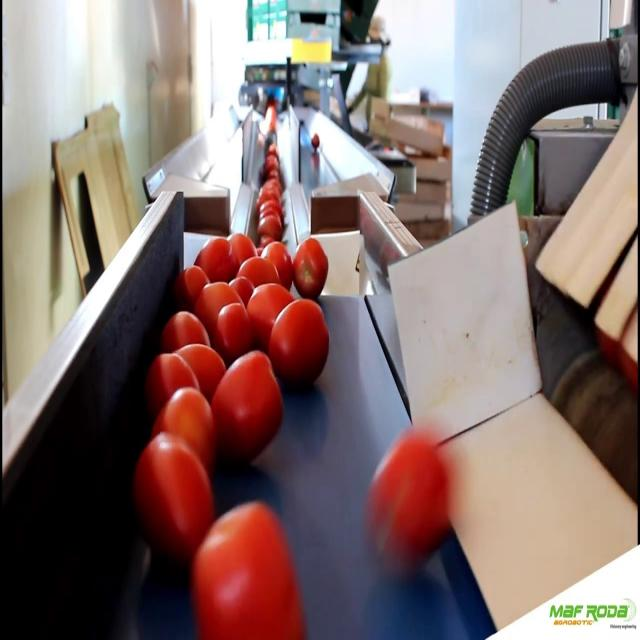Tomato: (190, 505, 312, 640), (366, 434, 451, 566), (132, 434, 210, 555), (212, 360, 280, 457), (154, 389, 216, 470), (272, 304, 331, 384), (248, 288, 291, 343), (158, 310, 210, 355), (181, 344, 224, 398), (153, 353, 194, 407), (193, 237, 238, 280), (294, 239, 326, 295), (216, 302, 248, 354), (266, 238, 290, 284), (224, 230, 258, 262), (240, 255, 275, 284), (202, 284, 239, 310), (183, 260, 208, 298), (229, 276, 252, 301), (257, 216, 283, 236), (259, 185, 282, 205), (310, 133, 323, 152)
